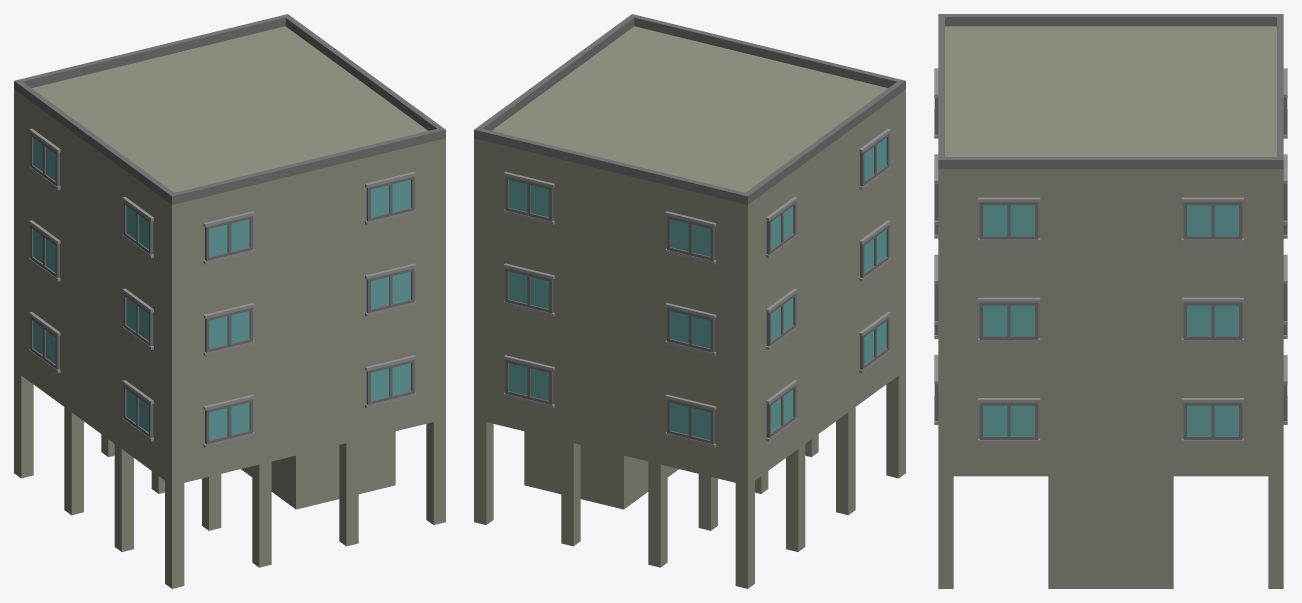
Rendered from BrokenBuilding.fbx.
3 views of the same model, side by side, from view 1: azimuth 30°, elevation 25°; view 2: azimuth 150°, elevation 25°; view 3: azimuth 270°, elevation 25° (orthographic). The views are drawn at different scales.
Parts seen in each view (by area): view 1: 개체_5, 개체_94, 개체_22, 개체_93, 개체_96, 개체_95, 개체_88, 개체_89, 개체_90, 개체_92, 개체_86, 개체_4 (+23 smaller); view 2: 개체_94, 개체_89, 개체_92, 개체_95, 개체_5, 개체_87, 개체_91, 개체_96, 개체_21, 개체_22, 개체_93, 개체_4 (+23 smaller); view 3: 개체_95, 개체_96, 개체_87, 개체_94, 개체_91, 개체_88, 개체_5, 개체_90, 개체_21, 개체_86, 개체_4, 개체_3 (+22 smaller).
Part boxes in pixels (x1,y1,x2,y2): 개체_5: (103,113,340,302); 개체_94: (14,51,270,251); 개체_22: (103,338,340,485); 개체_93: (103,252,340,388); 개체_96: (271,89,445,261); 개체_95: (185,26,370,113); 개체_88: (340,321,445,444); 개체_89: (14,273,102,434); 개체_90: (340,235,445,347); 개체_92: (14,187,102,337); 개체_86: (277,431,395,509); 개체_4: (14,40,185,153); 개체_94: (579,99,836,302); 개체_89: (579,323,836,485); 개체_92: (579,237,836,388); 개체_95: (474,74,668,261); 개체_5: (669,51,905,236); 개체_87: (474,321,579,444); 개체_91: (474,235,579,347); 개체_96: (569,26,734,98); 개체_21: (524,431,648,509); 개체_22: (837,273,905,420); 개체_93: (837,187,905,322); 개체_4: (579,130,836,204); 개체_95: (1089,113,1283,275); 개체_96: (938,113,1088,275); 개체_87: (1089,369,1283,476); 개체_94: (1089,26,1276,112); 개체_91: (1089,276,1283,369); 개체_88: (938,369,1088,476); 개체_5: (945,26,1088,112); 개체_90: (938,276,1088,369); 개체_21: (1089,476,1173,588); 개체_86: (1048,476,1088,588); 개체_4: (1089,14,1283,103); 개체_3: (1089,103,1283,169).
Bounding box in the file's own units: 10227 × 10227 × 13700.
